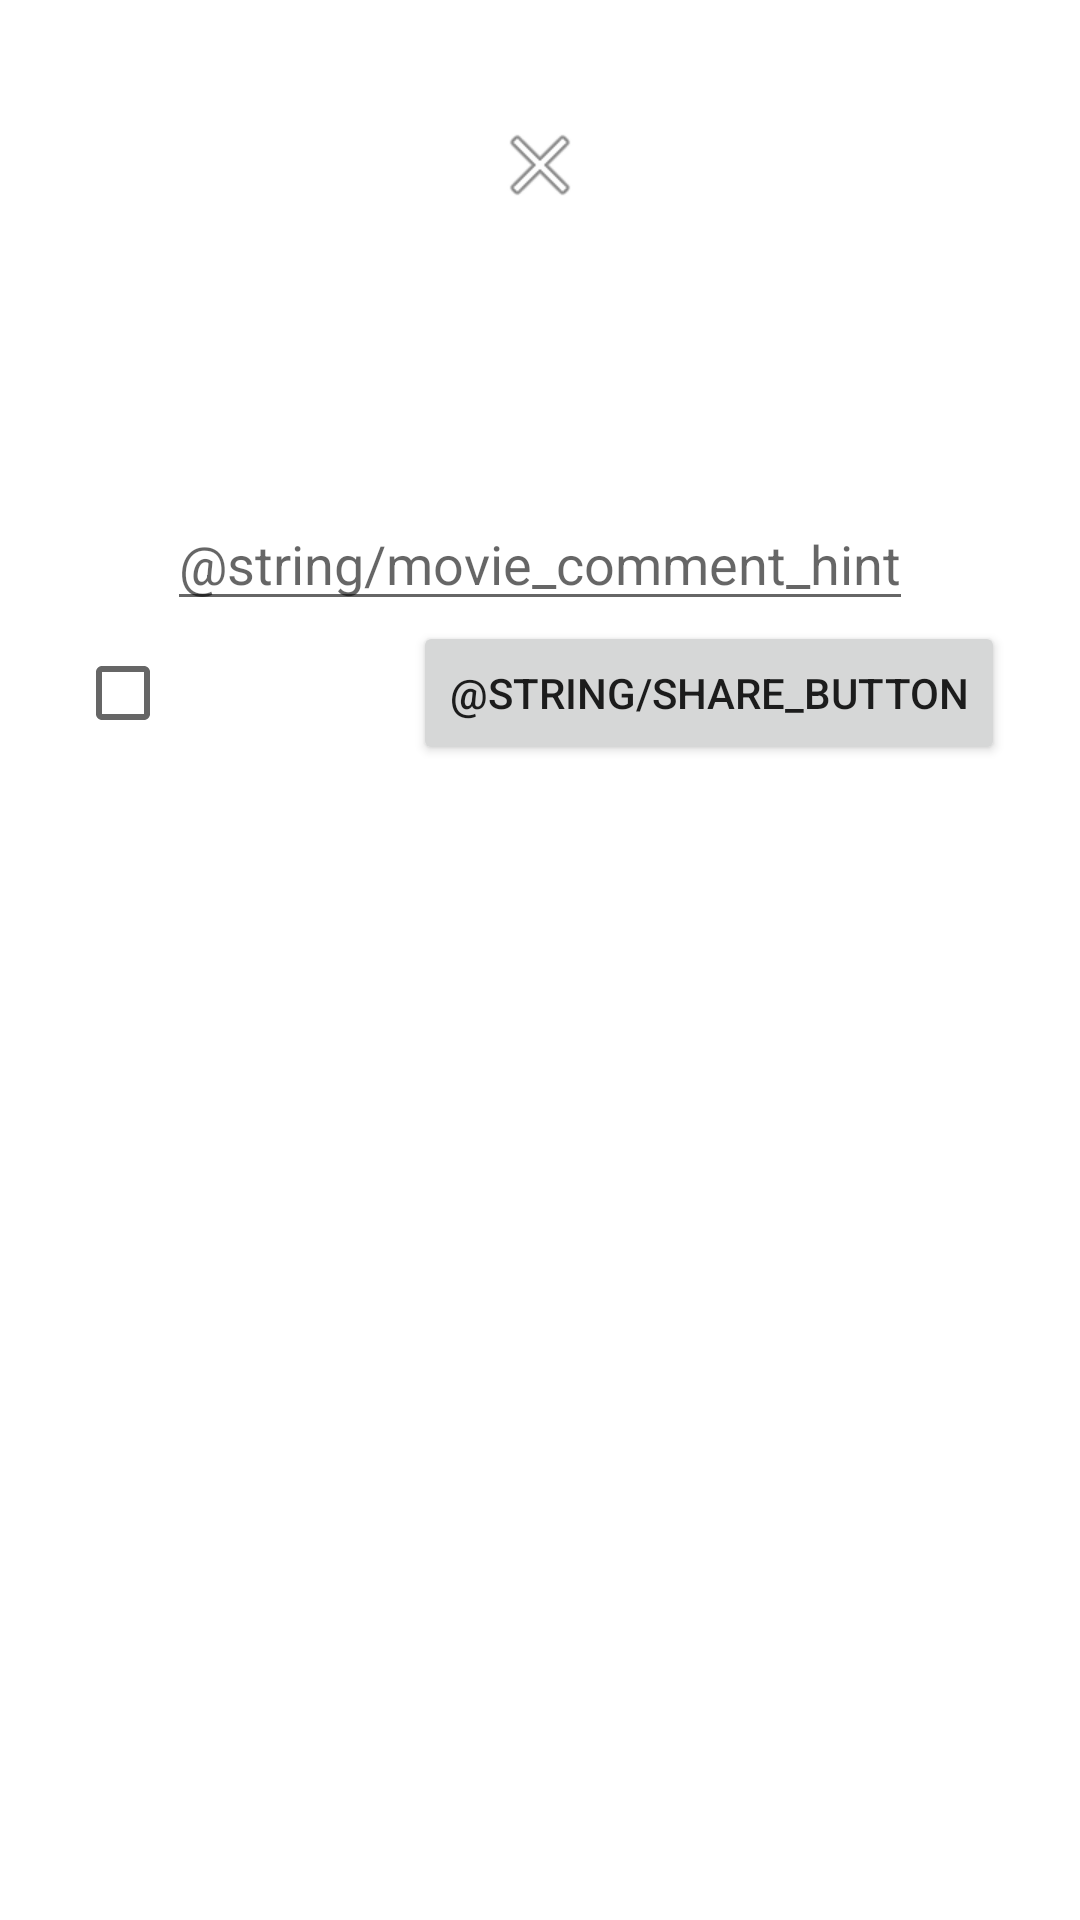

Locate icon controls on the screen. Image size 1080 × 1920, boxes as detection(x1, y1, x2, y2).
close clear cancel: detection(510, 135, 570, 195)
